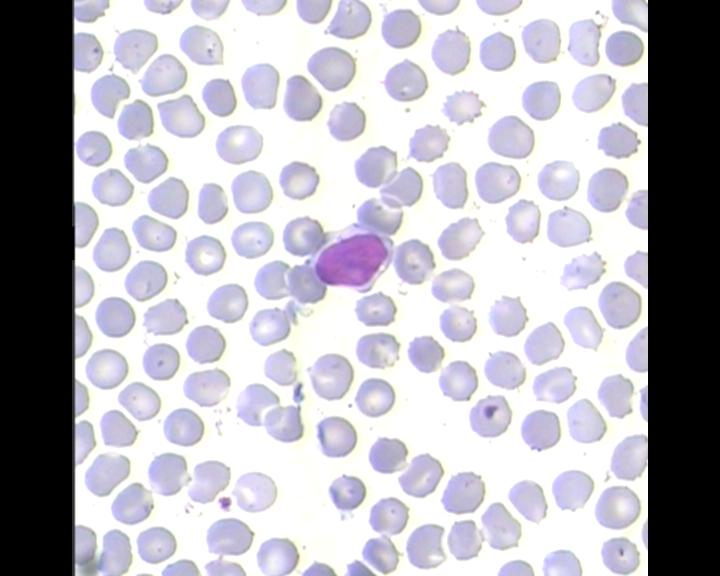lymp: (307, 219, 401, 296)
